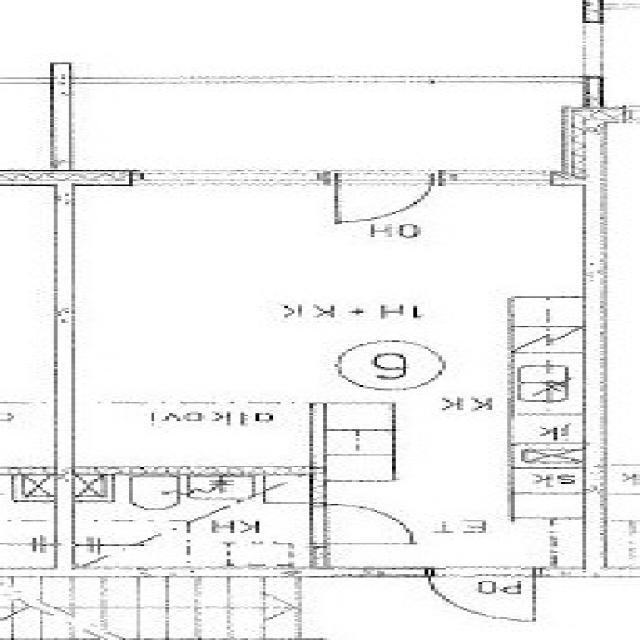door: (431, 566, 536, 624), (338, 170, 434, 228), (312, 504, 413, 543)
